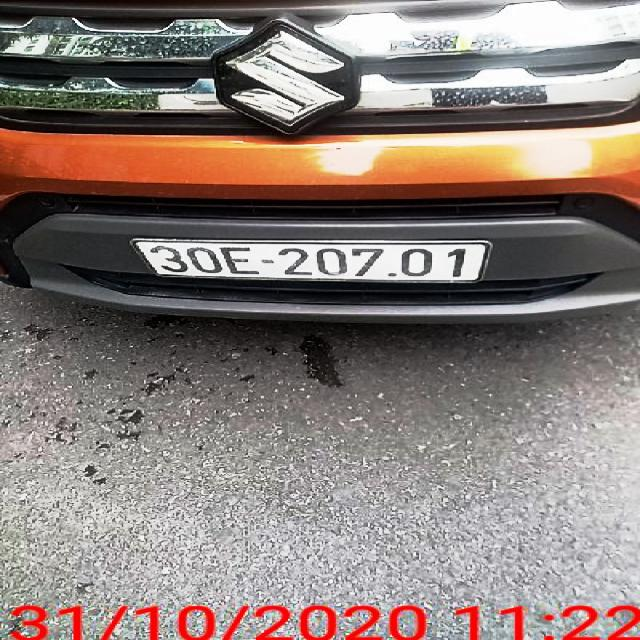license_plate: (132, 241, 494, 281)
